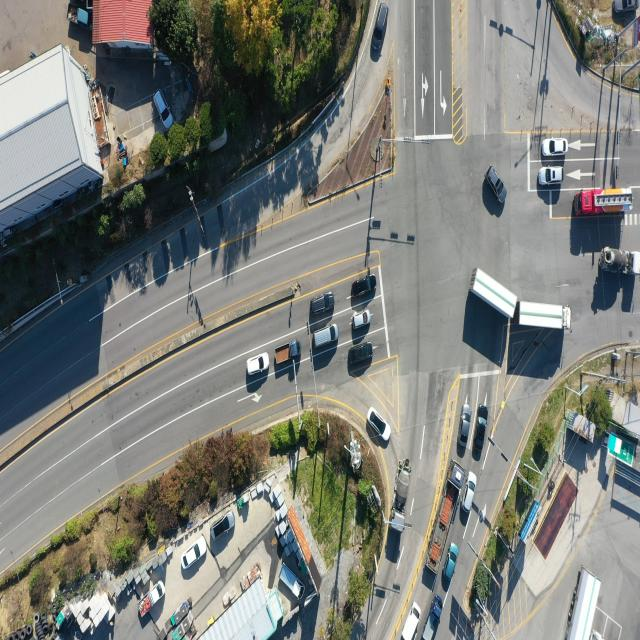car: (368, 406, 392, 442), (183, 539, 209, 571), (155, 89, 175, 130), (487, 164, 507, 204), (401, 601, 421, 640), (474, 411, 488, 462), (312, 323, 338, 349), (462, 472, 477, 514), (212, 512, 234, 540), (351, 276, 375, 299), (349, 344, 374, 366), (247, 352, 270, 375), (310, 292, 334, 314), (459, 404, 471, 448), (445, 542, 459, 579), (544, 138, 568, 156), (538, 168, 562, 186), (352, 311, 371, 329)
large_truck: (472, 268, 572, 327)
medium_truck: (424, 461, 467, 562), (564, 570, 601, 640), (389, 465, 414, 535), (576, 191, 634, 215), (599, 248, 640, 276)
small_truck: (422, 595, 444, 640), (139, 580, 165, 618), (374, 1, 390, 49), (274, 341, 301, 365), (68, 1, 88, 30)
